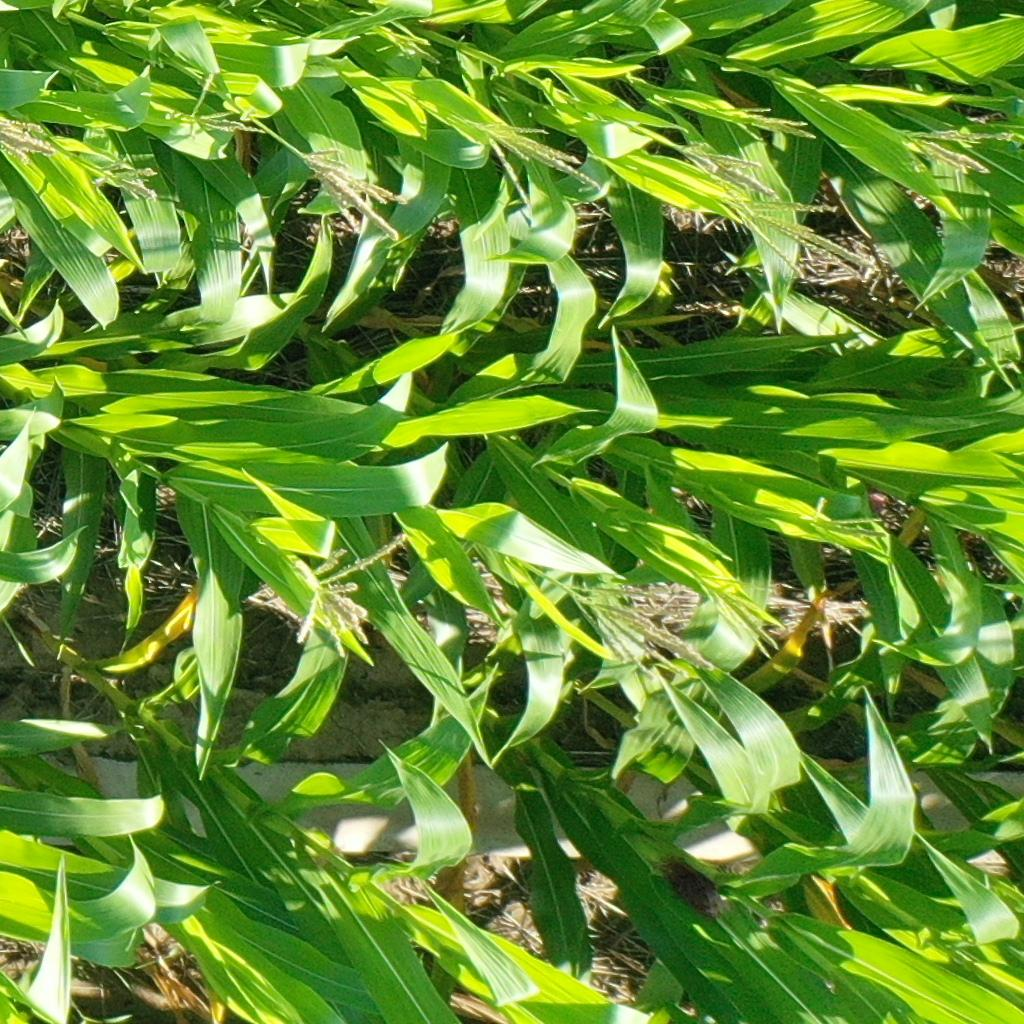Tassel: (558, 566, 716, 684), (280, 530, 411, 657), (717, 193, 879, 286), (468, 112, 613, 211), (294, 139, 417, 243), (899, 120, 1024, 178), (169, 71, 268, 144), (677, 142, 781, 207), (807, 490, 883, 554), (88, 151, 172, 207), (717, 589, 787, 654), (719, 103, 814, 147), (1, 112, 60, 167), (382, 29, 452, 65)
